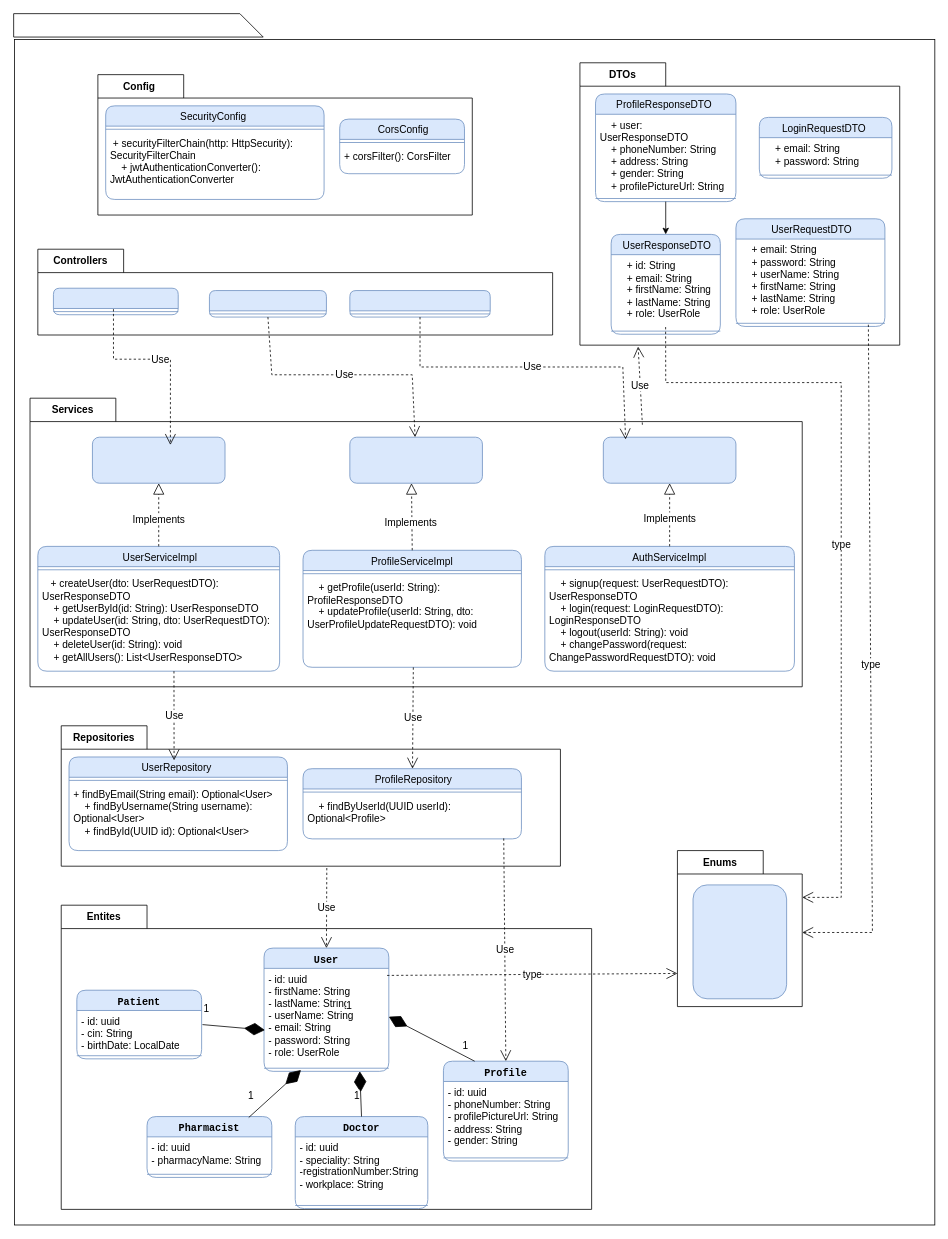
This 948x1239 diagram has some shape labels left out. The shapes that lost their labels are listed below. From the top down, each one's centre as x and y in pixels, then its label:
At (x=138, y=25): "Authentication-service -DC".
At (x=115, y=301): "UserController".
At (x=267, y=303): "ProfileController".
At (x=419, y=303): "AuthController".
At (x=158, y=459): "«interface» UserService".
At (x=415, y=459): "«interface» ProfileService".
At (x=669, y=459): "«interface» AuthService".
At (x=739, y=941): "<<Enumeration>> UserRole ADMIN DOCTOR PHARMACIST PATIENT".
